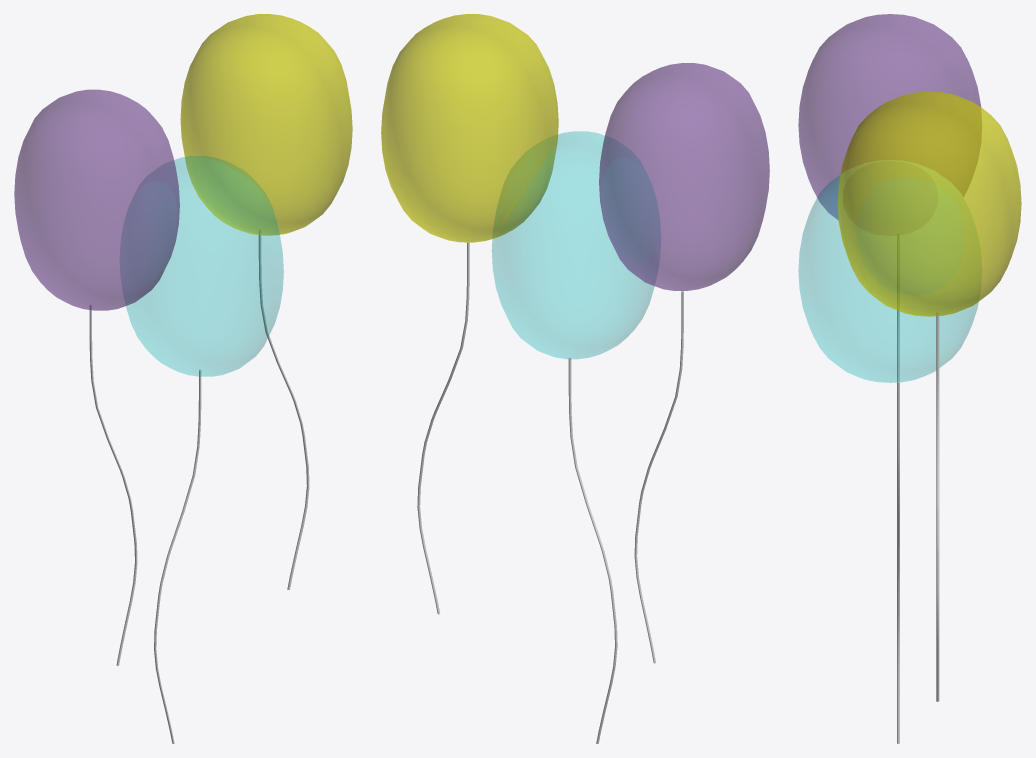
The model's file is ballooon.fbx.
3 views of the same model, side by side, from view 1: azimuth 30°, elevation 25°; view 2: azimuth 150°, elevation 25°; view 3: azimuth 270°, elevation 25° (orthographic). The views are drawn at different scales.
Visible parts, largest first — view 1: group_pasted__pSphere1; view 2: group_pasted__pSphere1; view 3: group_pasted__pSphere1.
Part boxes in pixels (x1,y1,x2,y2): group_pasted__pSphere1: [14, 14, 352, 743]; group_pasted__pSphere1: [381, 14, 769, 743]; group_pasted__pSphere1: [798, 14, 1021, 743].
Bounding box in the file's own units: 3.7 × 7.27 × 2.11.
